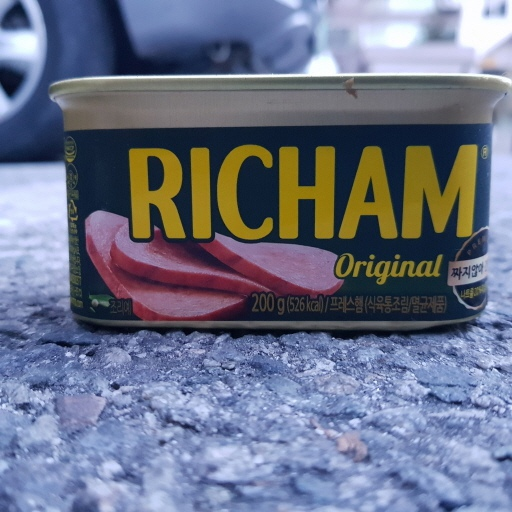Metal_2: (47, 69, 512, 331)
